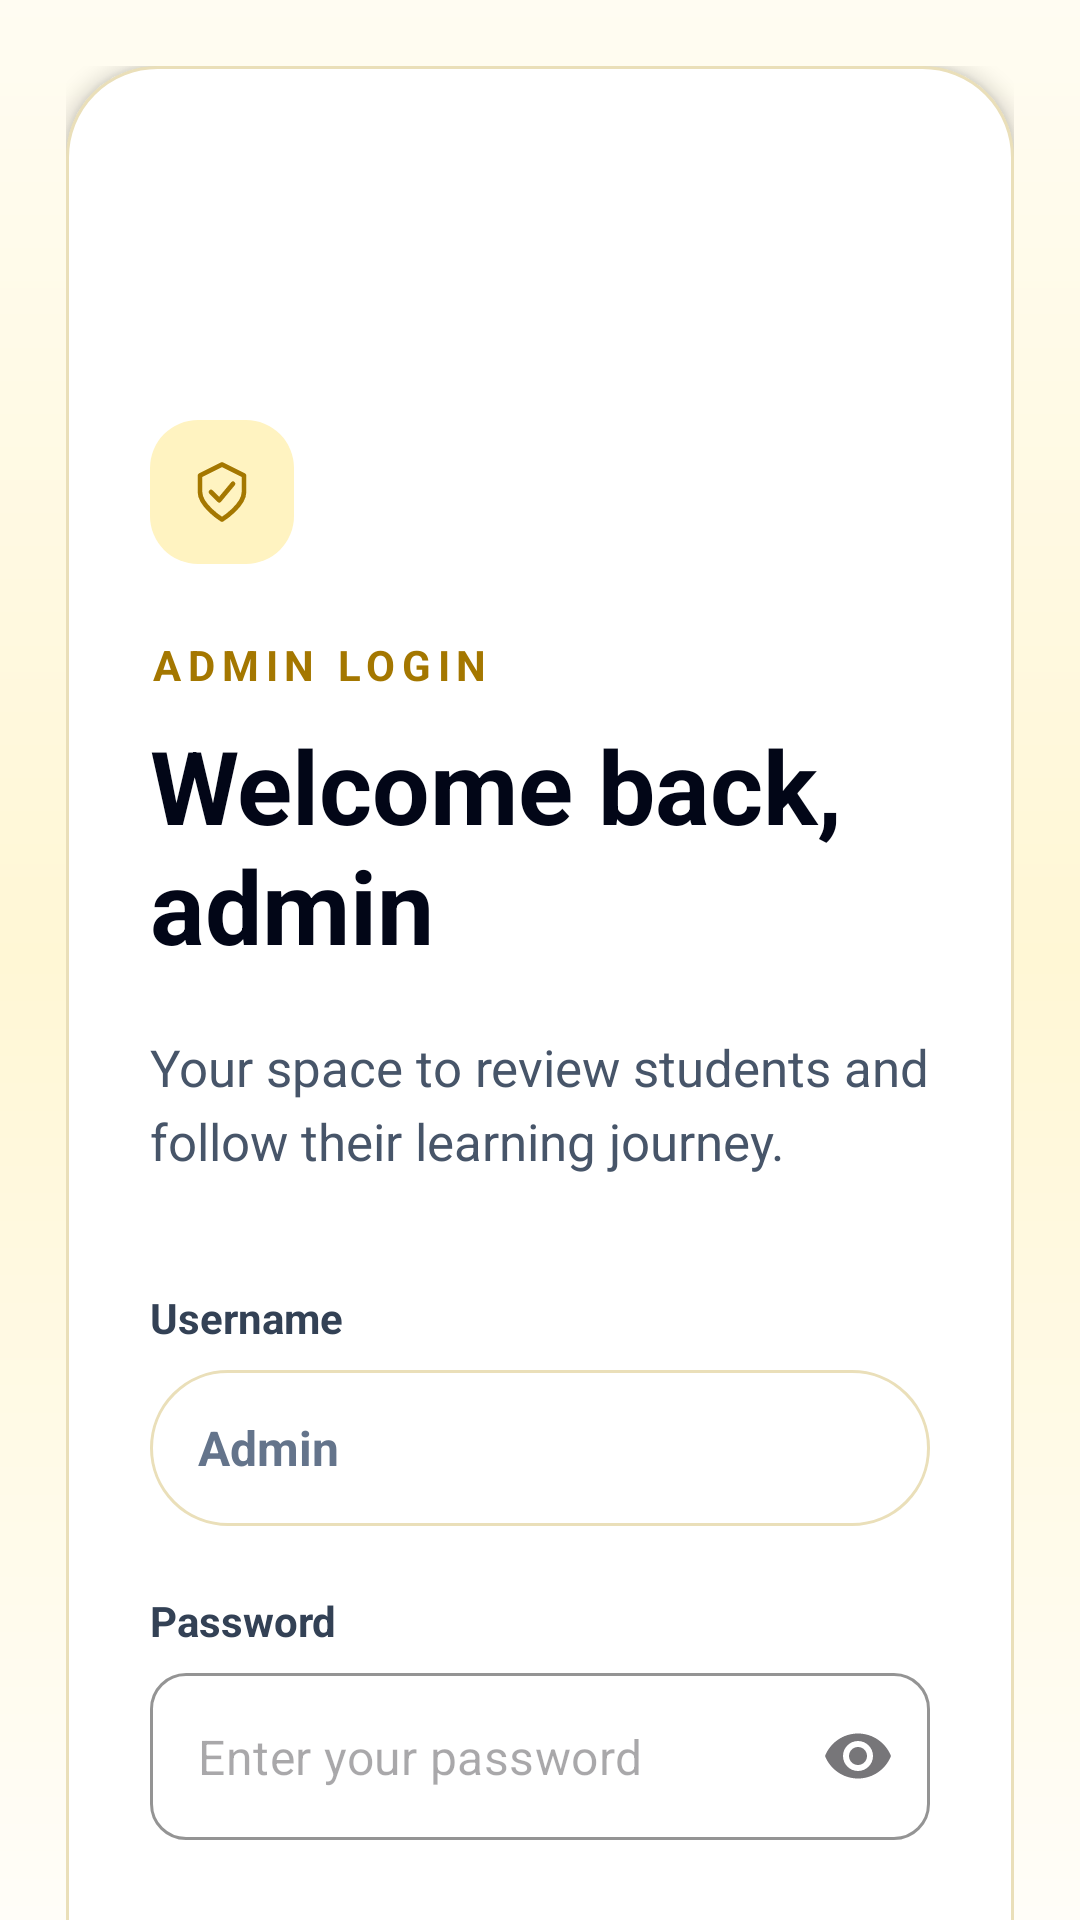

Icons on this 1080*1920 Android screen, each with the point to tap as (x=x, y=y):
Secure login: (x=222, y=492)
